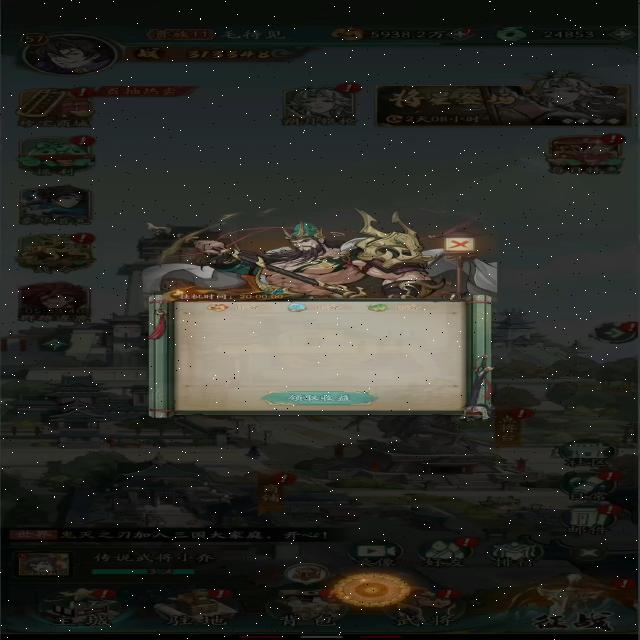operation-close: (436, 234, 480, 258)
